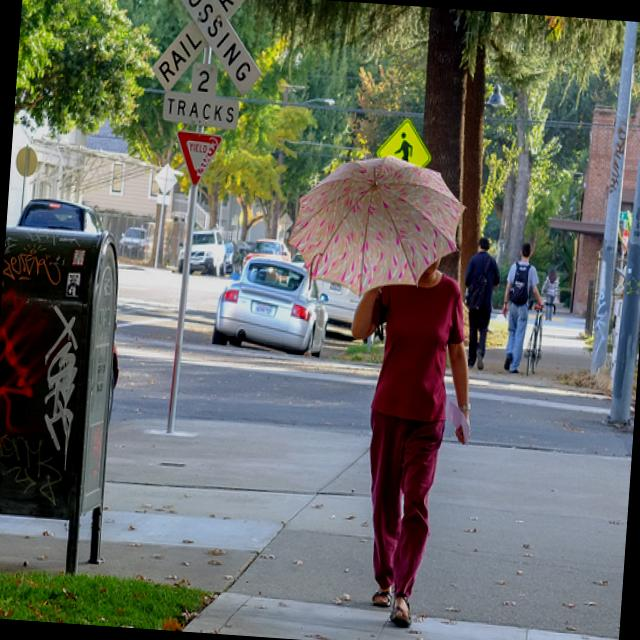Vehicle: (215, 256, 332, 356), (15, 196, 106, 234), (176, 224, 230, 276), (316, 280, 362, 336), (240, 233, 293, 276), (221, 238, 243, 276), (118, 226, 148, 250)
